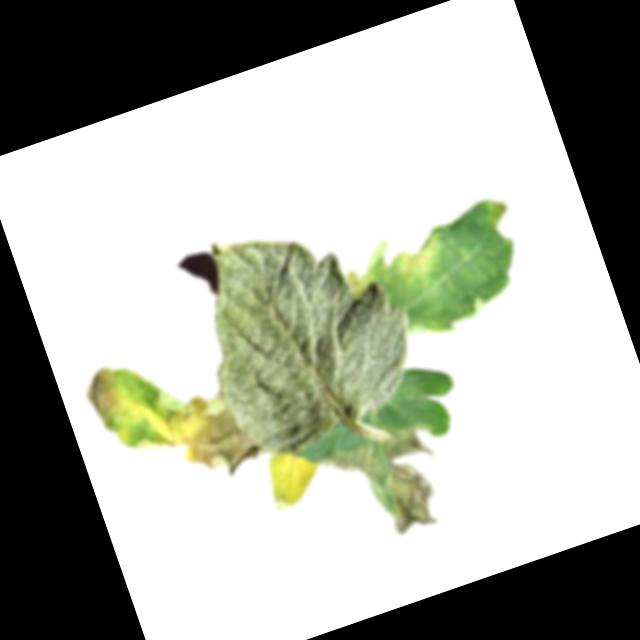Late_blight: (323, 421, 452, 550), (157, 382, 264, 492), (256, 443, 327, 513), (387, 225, 454, 290), (76, 362, 132, 430), (338, 238, 399, 299), (487, 193, 513, 220)
healthy: (174, 189, 436, 466)
